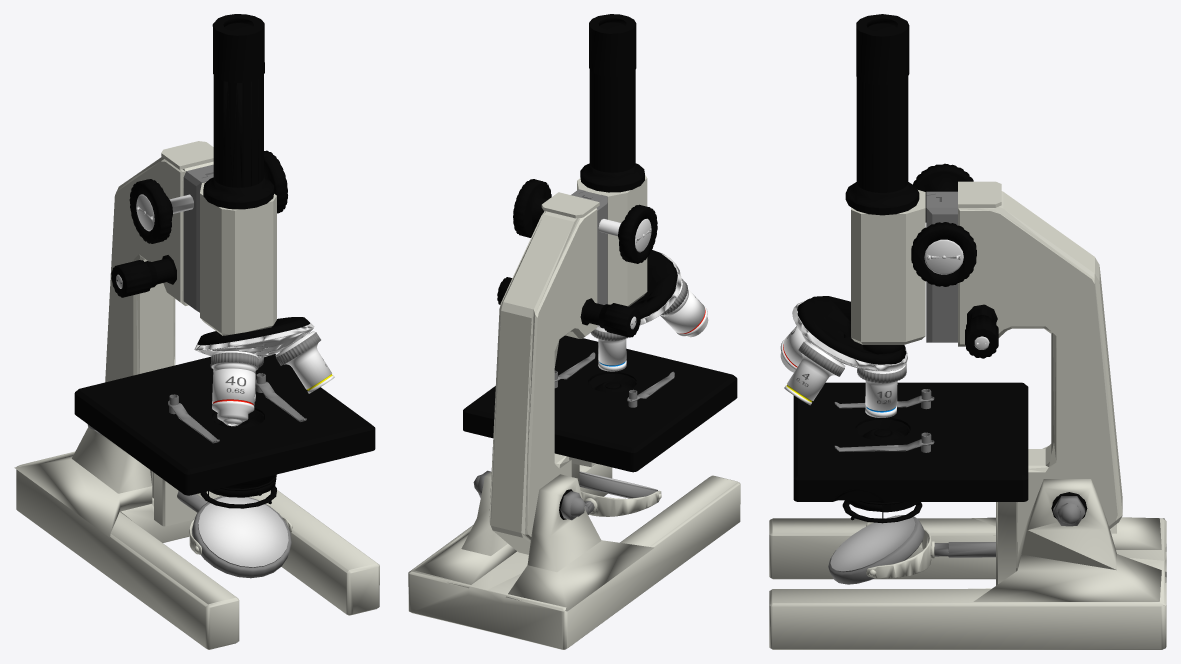
File: microscope.glb
The picture shows the model from 3 angles, left to right: view 1: azimuth 30°, elevation 25°; view 2: azimuth 150°, elevation 25°; view 3: azimuth 270°, elevation 25°; orthographic projection. The views are drawn at different scales.
Parts seen in each view (by area): view 1: microscope; view 2: microscope; view 3: microscope.
Part boxes in pixels (box(x1,y1,x2,y2)): microscope: box(14, 14, 379, 649); microscope: box(408, 14, 740, 649); microscope: box(769, 14, 1166, 649).
Size of the model in its own units: 0.2244 by 0.6358 by 0.3937.
Materials: 7 (7 with a texture image).
